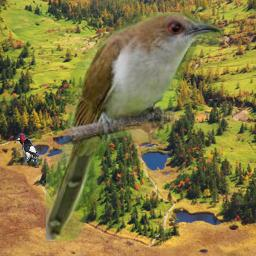Cuckoo: (46, 12, 224, 241)
Woodpecker: (16, 133, 39, 168)
